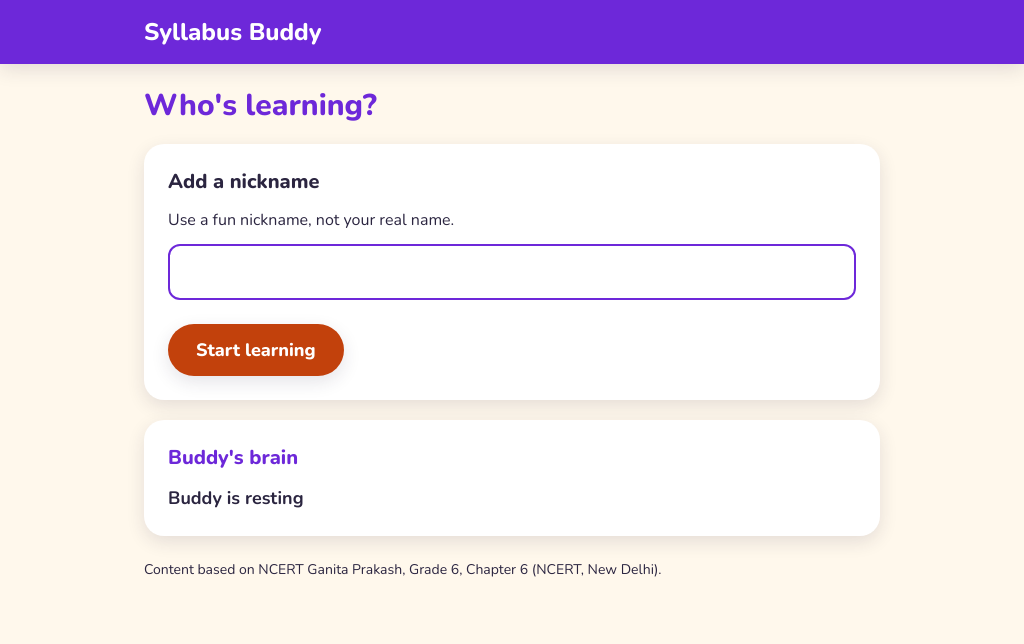
Scenario: LearnerApp › opens the saved child straight away on the next visit
The image size is (1024, 644).
Later steps or results of the test are not shown.
Type "Riya" into the field labelled "Add a nickname". click: (512, 272)
box: [168, 244, 856, 300]
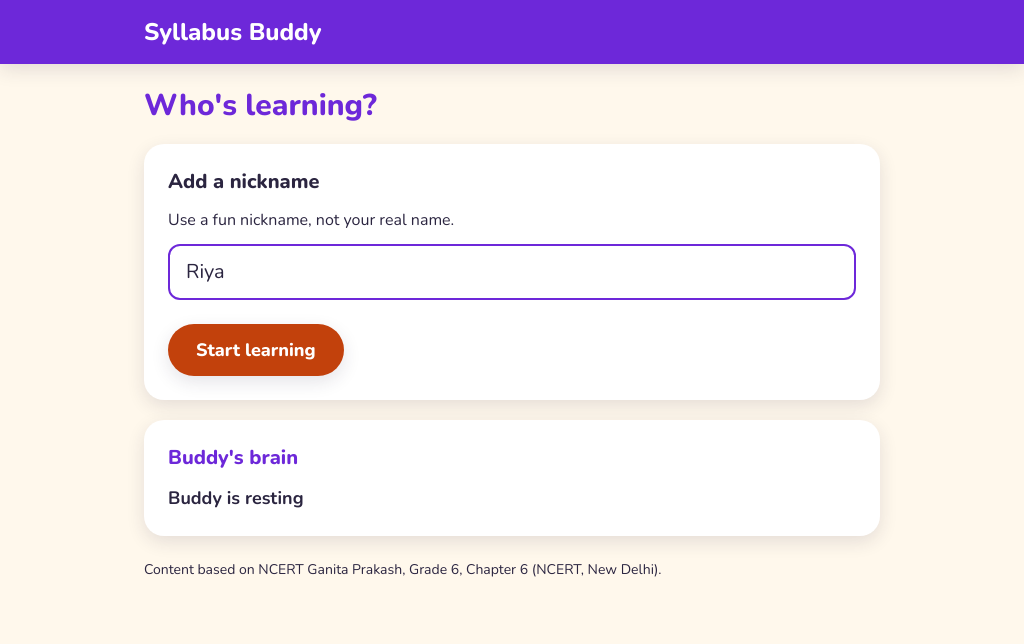
Click the button "Start learning". click: (256, 350)
box: [168, 324, 344, 376]
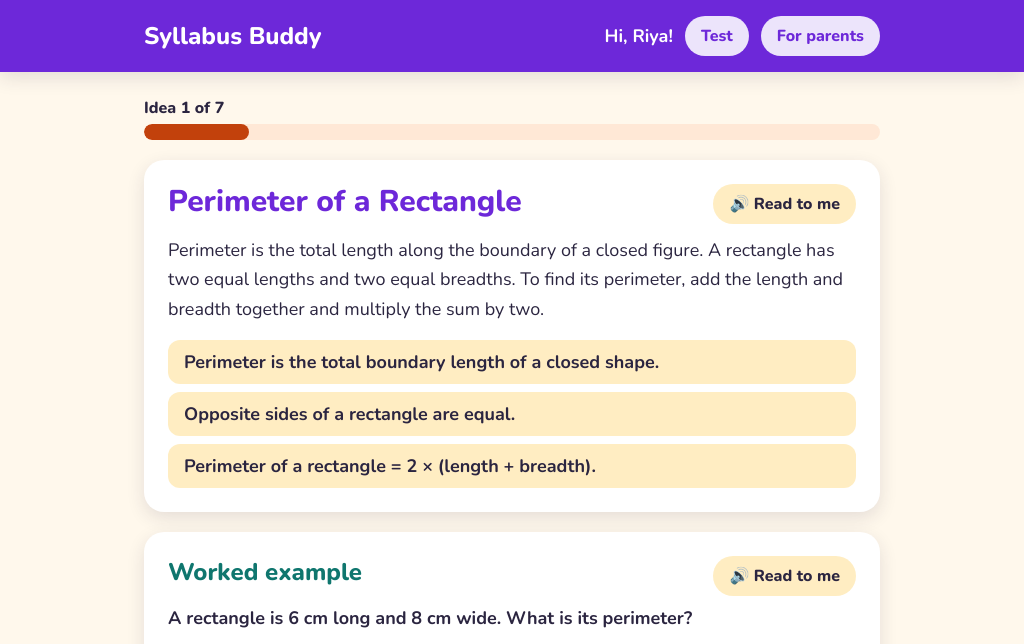
Check: the text "Idea 1 of 7" is shown, box [144, 97, 224, 119]
